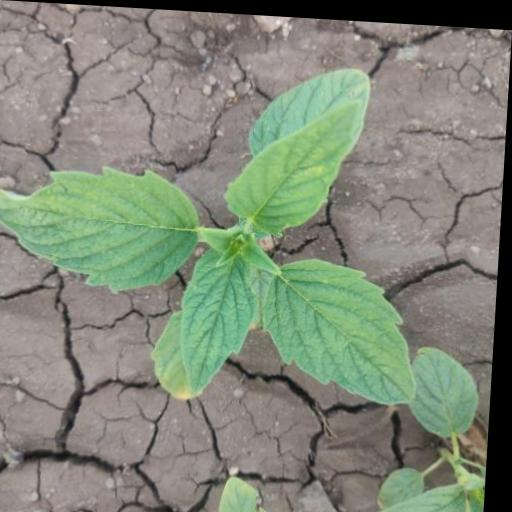crop: (0, 49, 446, 428)
